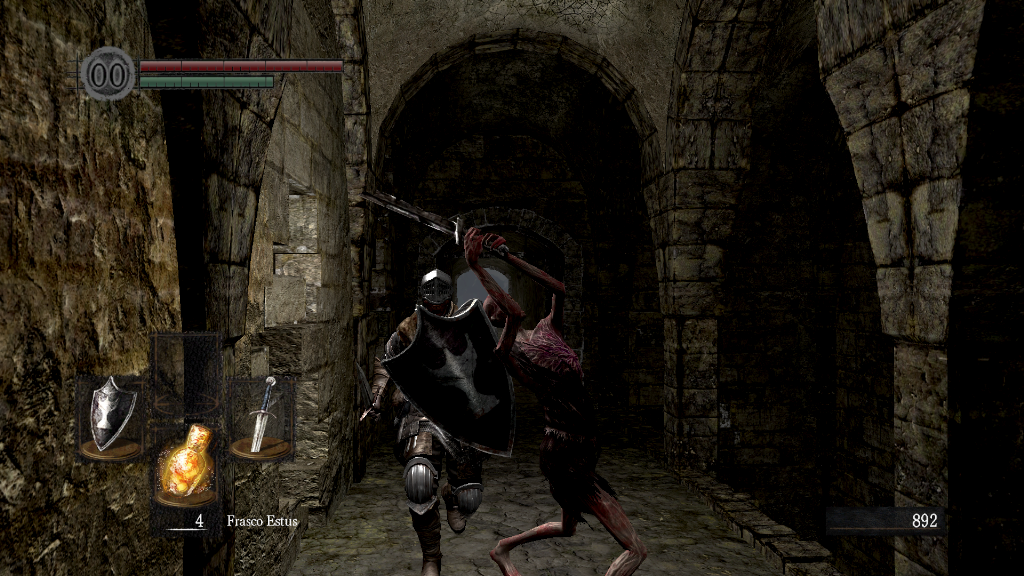health: (138, 58, 343, 71)
hollow: (463, 222, 648, 576)
humanity: (80, 45, 136, 102)
player: (354, 267, 516, 576)
souls: (825, 506, 945, 536)
stamina: (138, 74, 274, 88)
